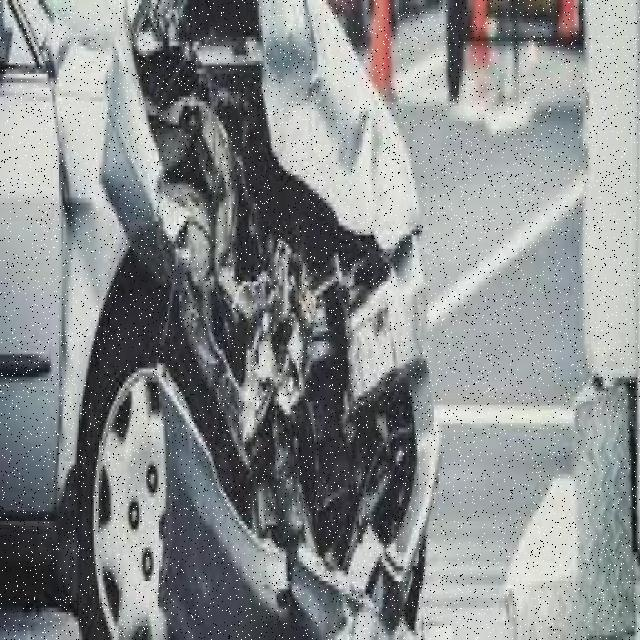damage: (60, 3, 441, 636)
